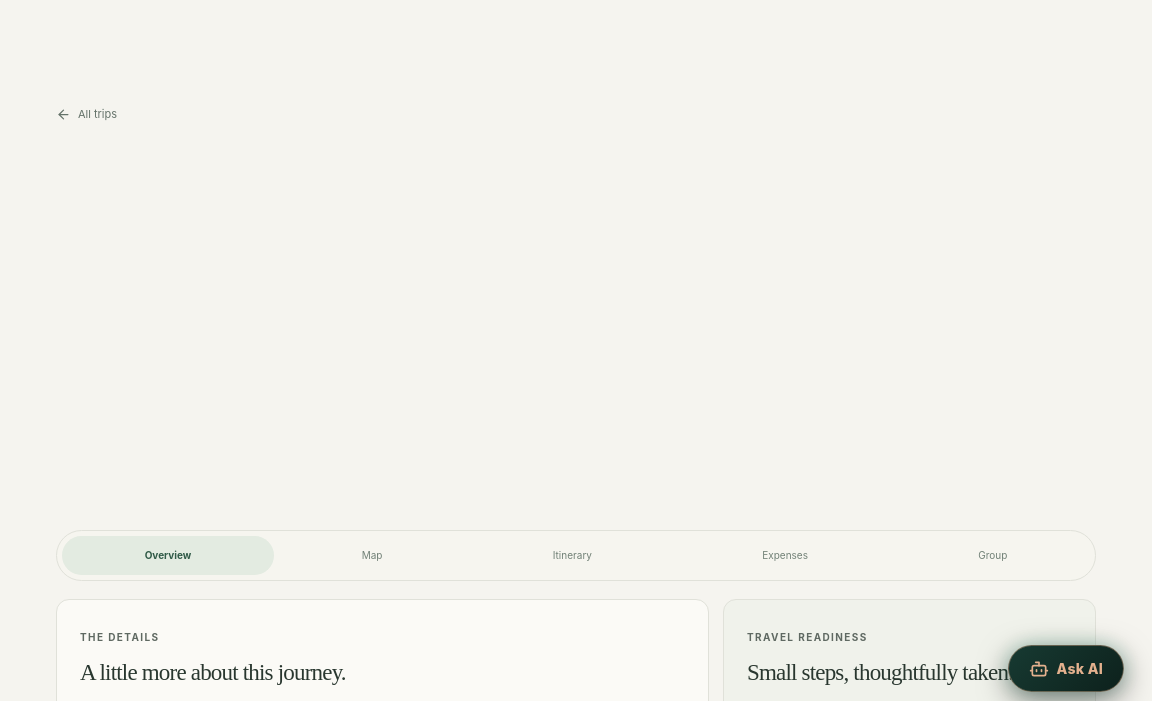
Test case: trip pages › shows trip overview, coming-next tabs, edit navigation, cancel action, and a deliberate delete confirmation
Later steps or results of the test are not shown.
Click the tab "Itinerary" at (572,555), box [470,536,675,575]
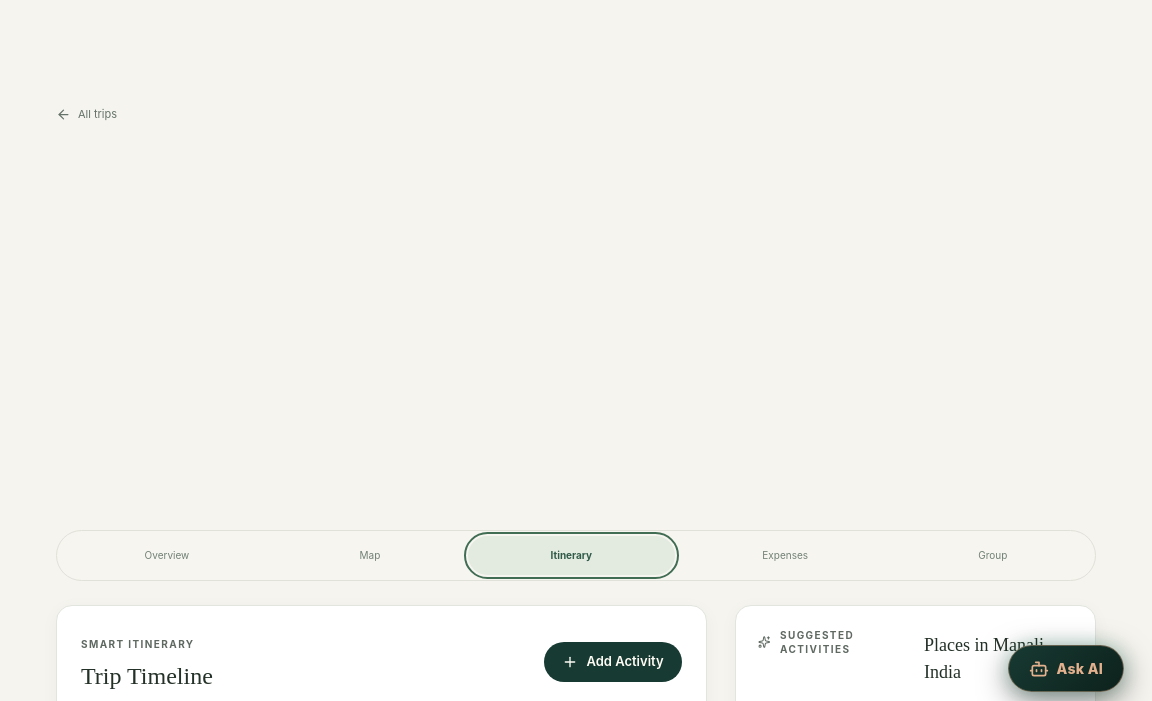
Result: the heading "Trip Timeline" is shown at [81,658,213,694]
Click the tab "Expenses" at (785,555), box [680,536,891,575]
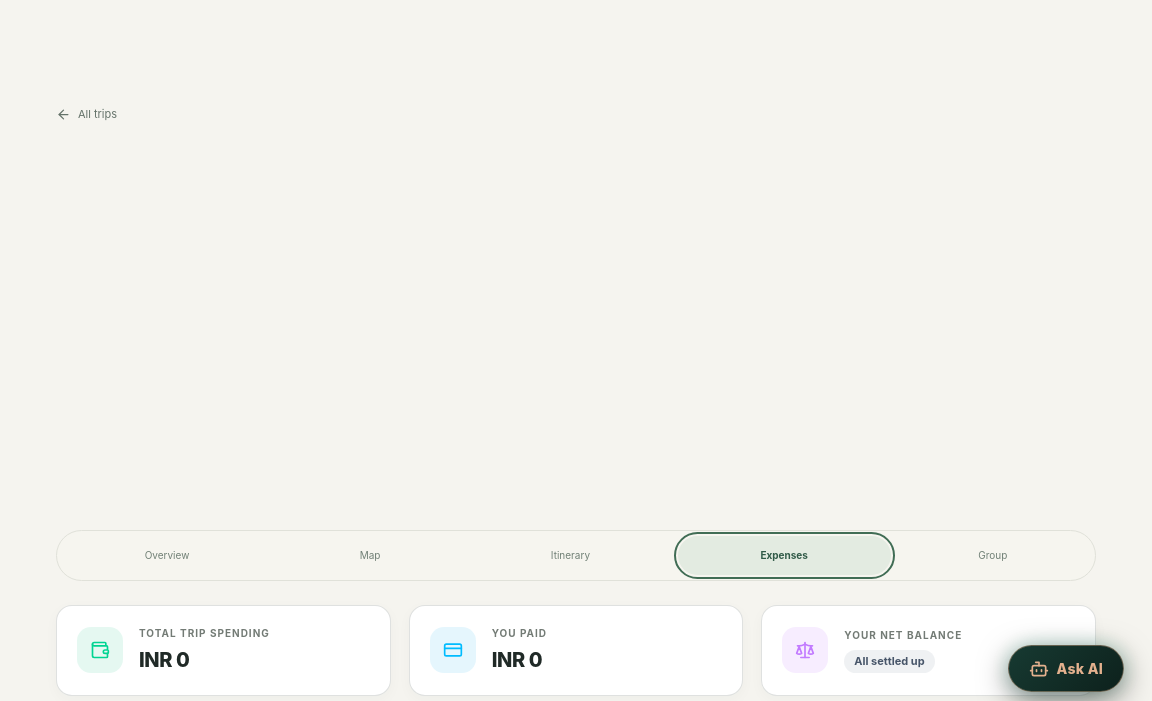
Result: the text "TOTAL TRIP SPENDING" is shown at [139,626,270,641]
Click the tab "Group" at (993,555), box [896,536,1090,575]
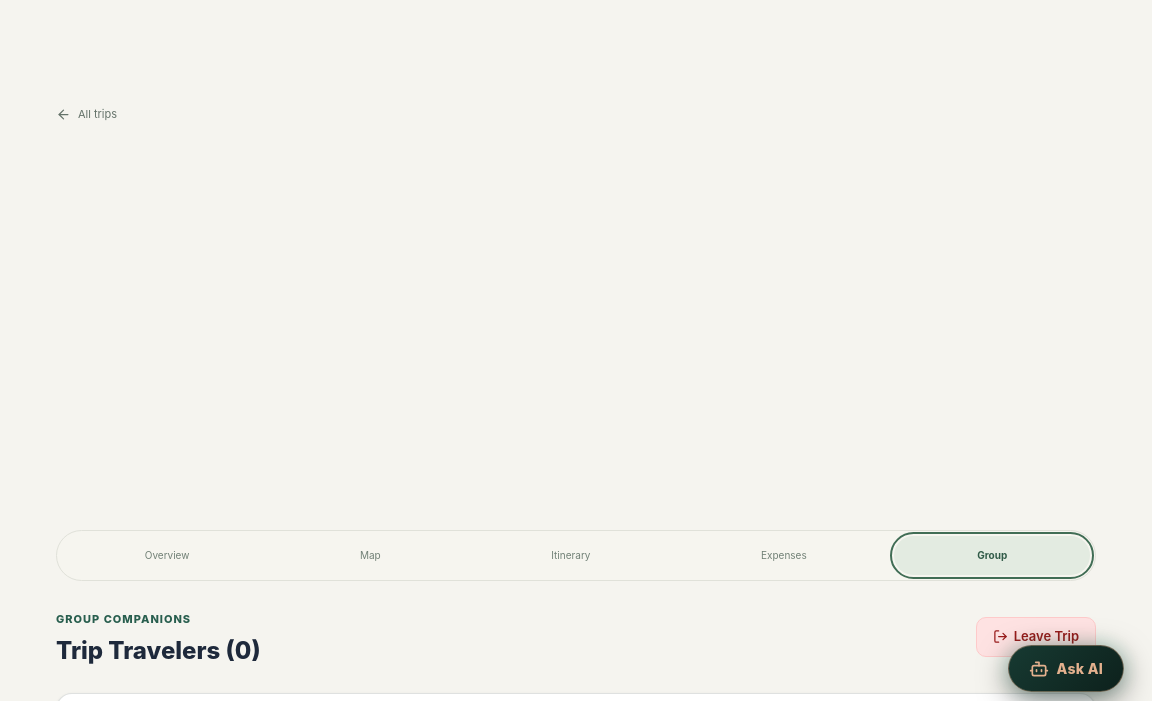
Result: the heading "Trip Travelers (0)" is shown at [56,633,261,669]
